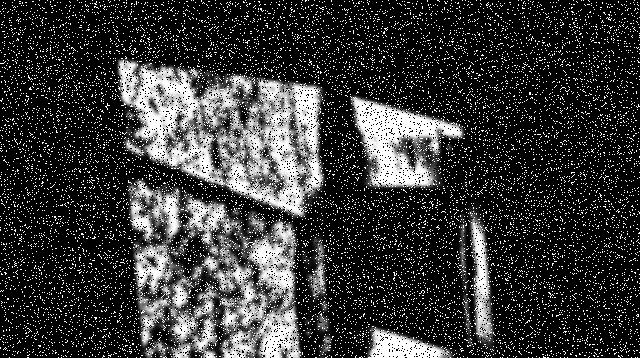pot: (329, 178, 477, 358)
